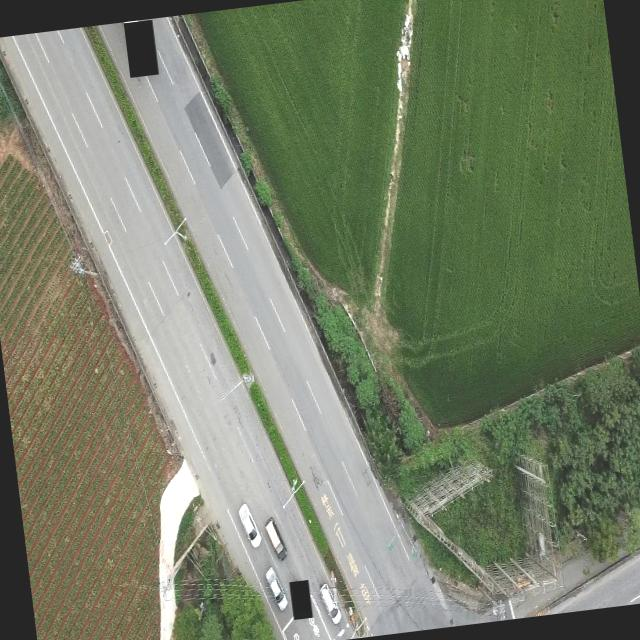car: (262, 516, 290, 562), (264, 565, 290, 613), (237, 501, 260, 548), (319, 581, 342, 627)
